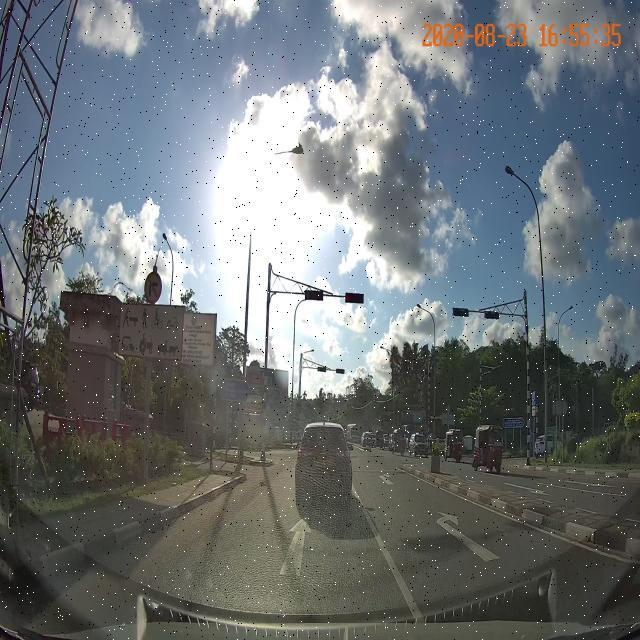forward: (111, 498, 424, 599)
